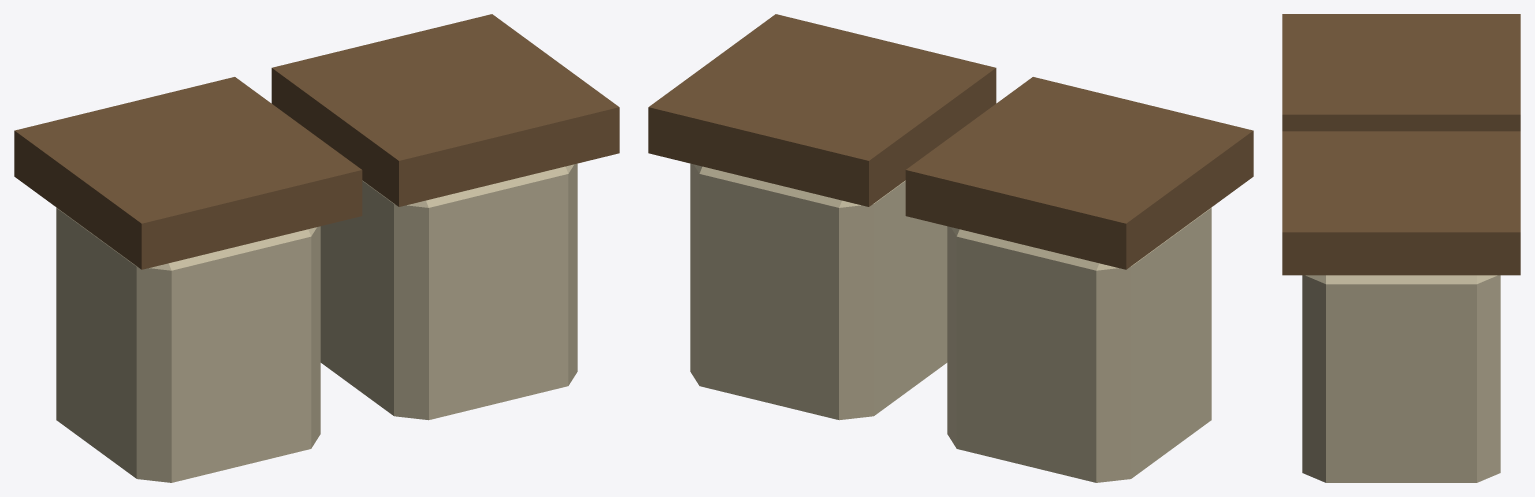
Rendered from beehives.glb.
3 views of the same model, side by side, from view 1: azimuth 30°, elevation 25°; view 2: azimuth 150°, elevation 25°; view 3: azimuth 270°, elevation 25° (orthographic). The views are drawn at different scales.
Parts seen in each view (by area): view 1: Beehives; view 2: Beehives; view 3: Beehives.
Boxes of the visible parts, <box> form: Beehives: <box>14,14,619,482</box>; Beehives: <box>648,14,1253,482</box>; Beehives: <box>1282,14,1520,482</box>.
Bounding box in the file's own units: 0.13 × 0.072 × 0.06.
